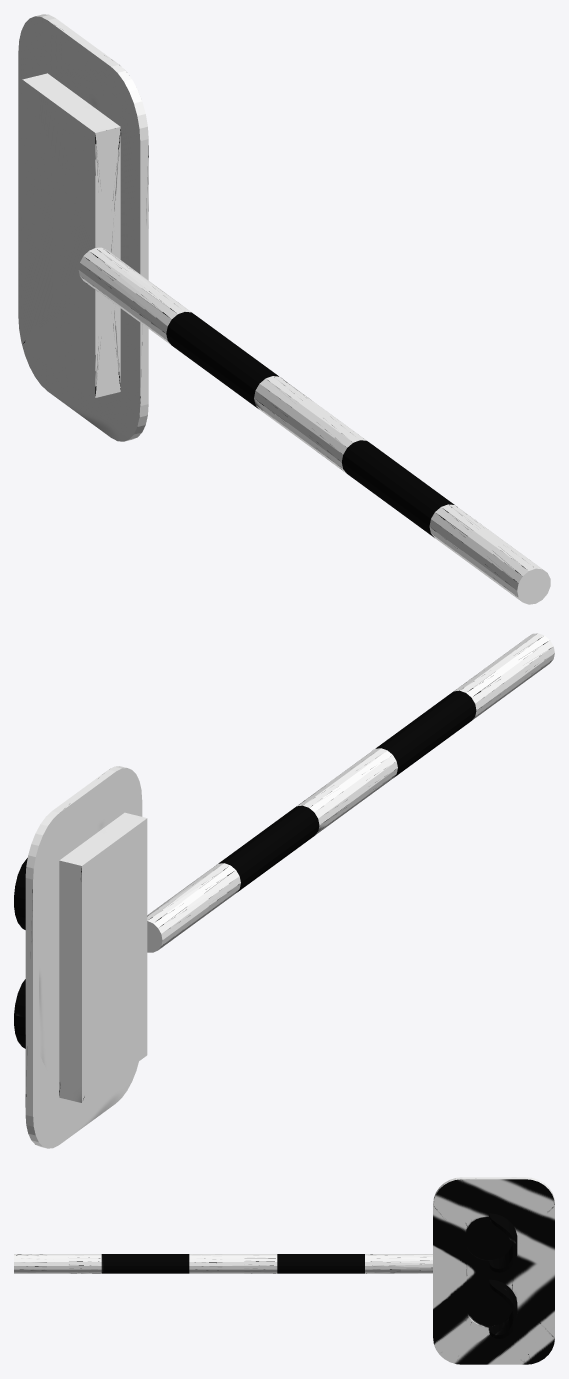
The model's file is zebra_body.dae.
3 views of the same model, one above another, from view 1: azimuth 30°, elevation 25°; view 2: azimuth 150°, elevation 25°; view 3: azimuth 270°, elevation 25° (orthographic). The views are drawn at different scales.
Parts seen in each view (by area): view 1: Body 1; view 2: Body 1; view 3: Body 1.
Part boxes in pixels (<box>): Body 1: <box>18,14,550,604</box>; Body 1: <box>14,633,554,1148</box>; Body 1: <box>14,1177,554,1364</box>.
Bounding box in the file's own units: 120 × 1110 × 420.
Materials: 1 (1 with a texture image).
